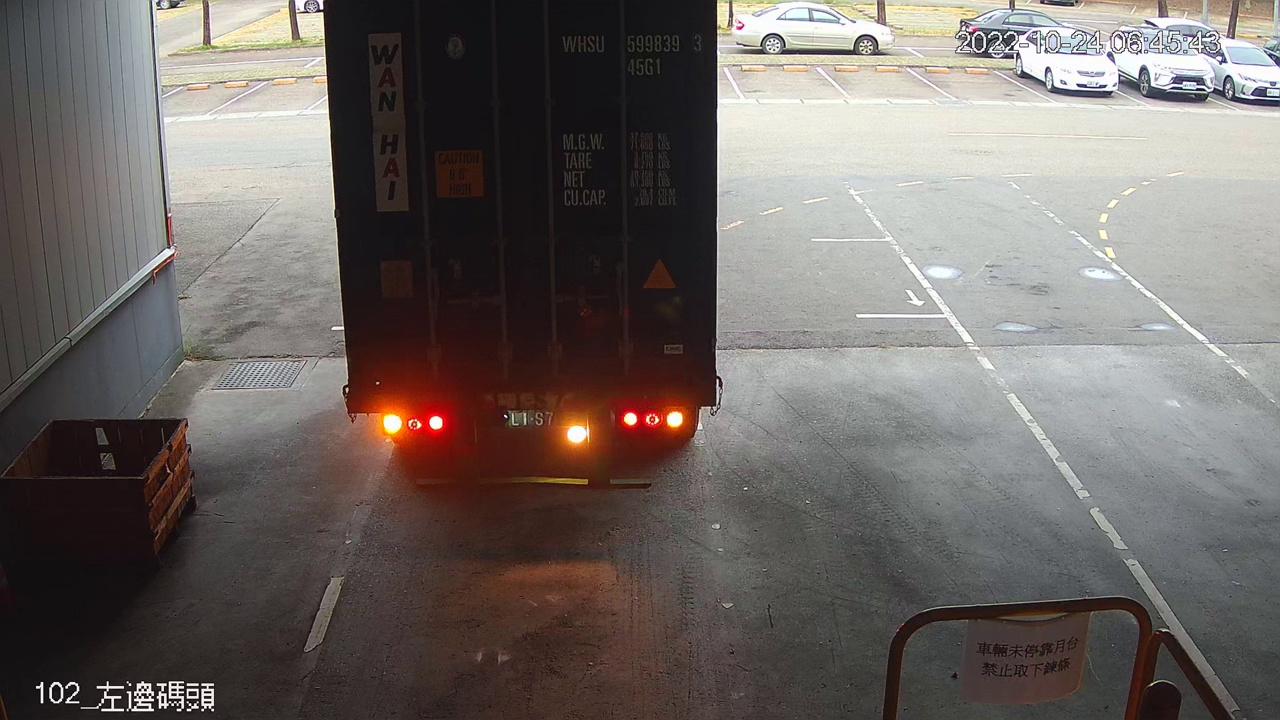container: (557, 25, 710, 82)
